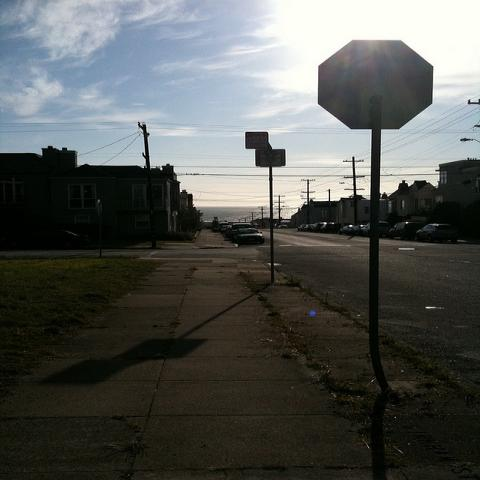car: (416, 224, 460, 243), (386, 222, 422, 240), (233, 228, 265, 244), (367, 221, 391, 238), (231, 222, 254, 236), (338, 225, 363, 237), (308, 222, 328, 232), (323, 222, 339, 233), (360, 224, 370, 236), (220, 225, 231, 234), (297, 223, 308, 231), (224, 226, 232, 237), (278, 225, 288, 229)
